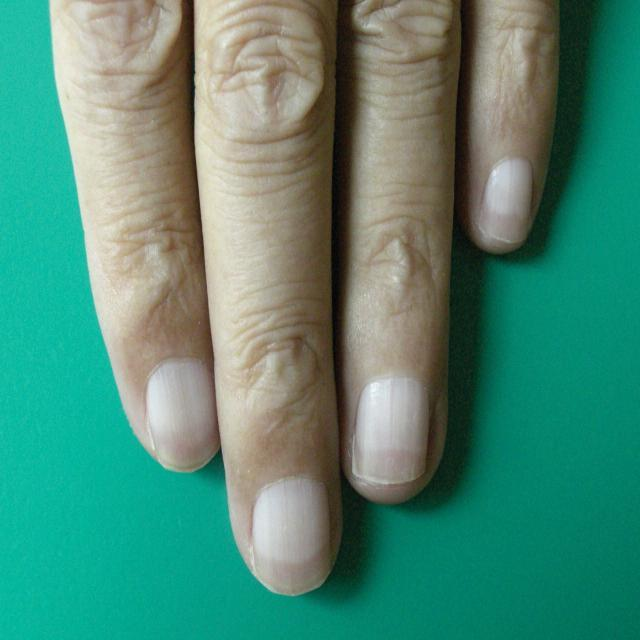Fingernail: (253, 478, 330, 595), (354, 378, 429, 483), (147, 360, 217, 471), (480, 158, 533, 244)
